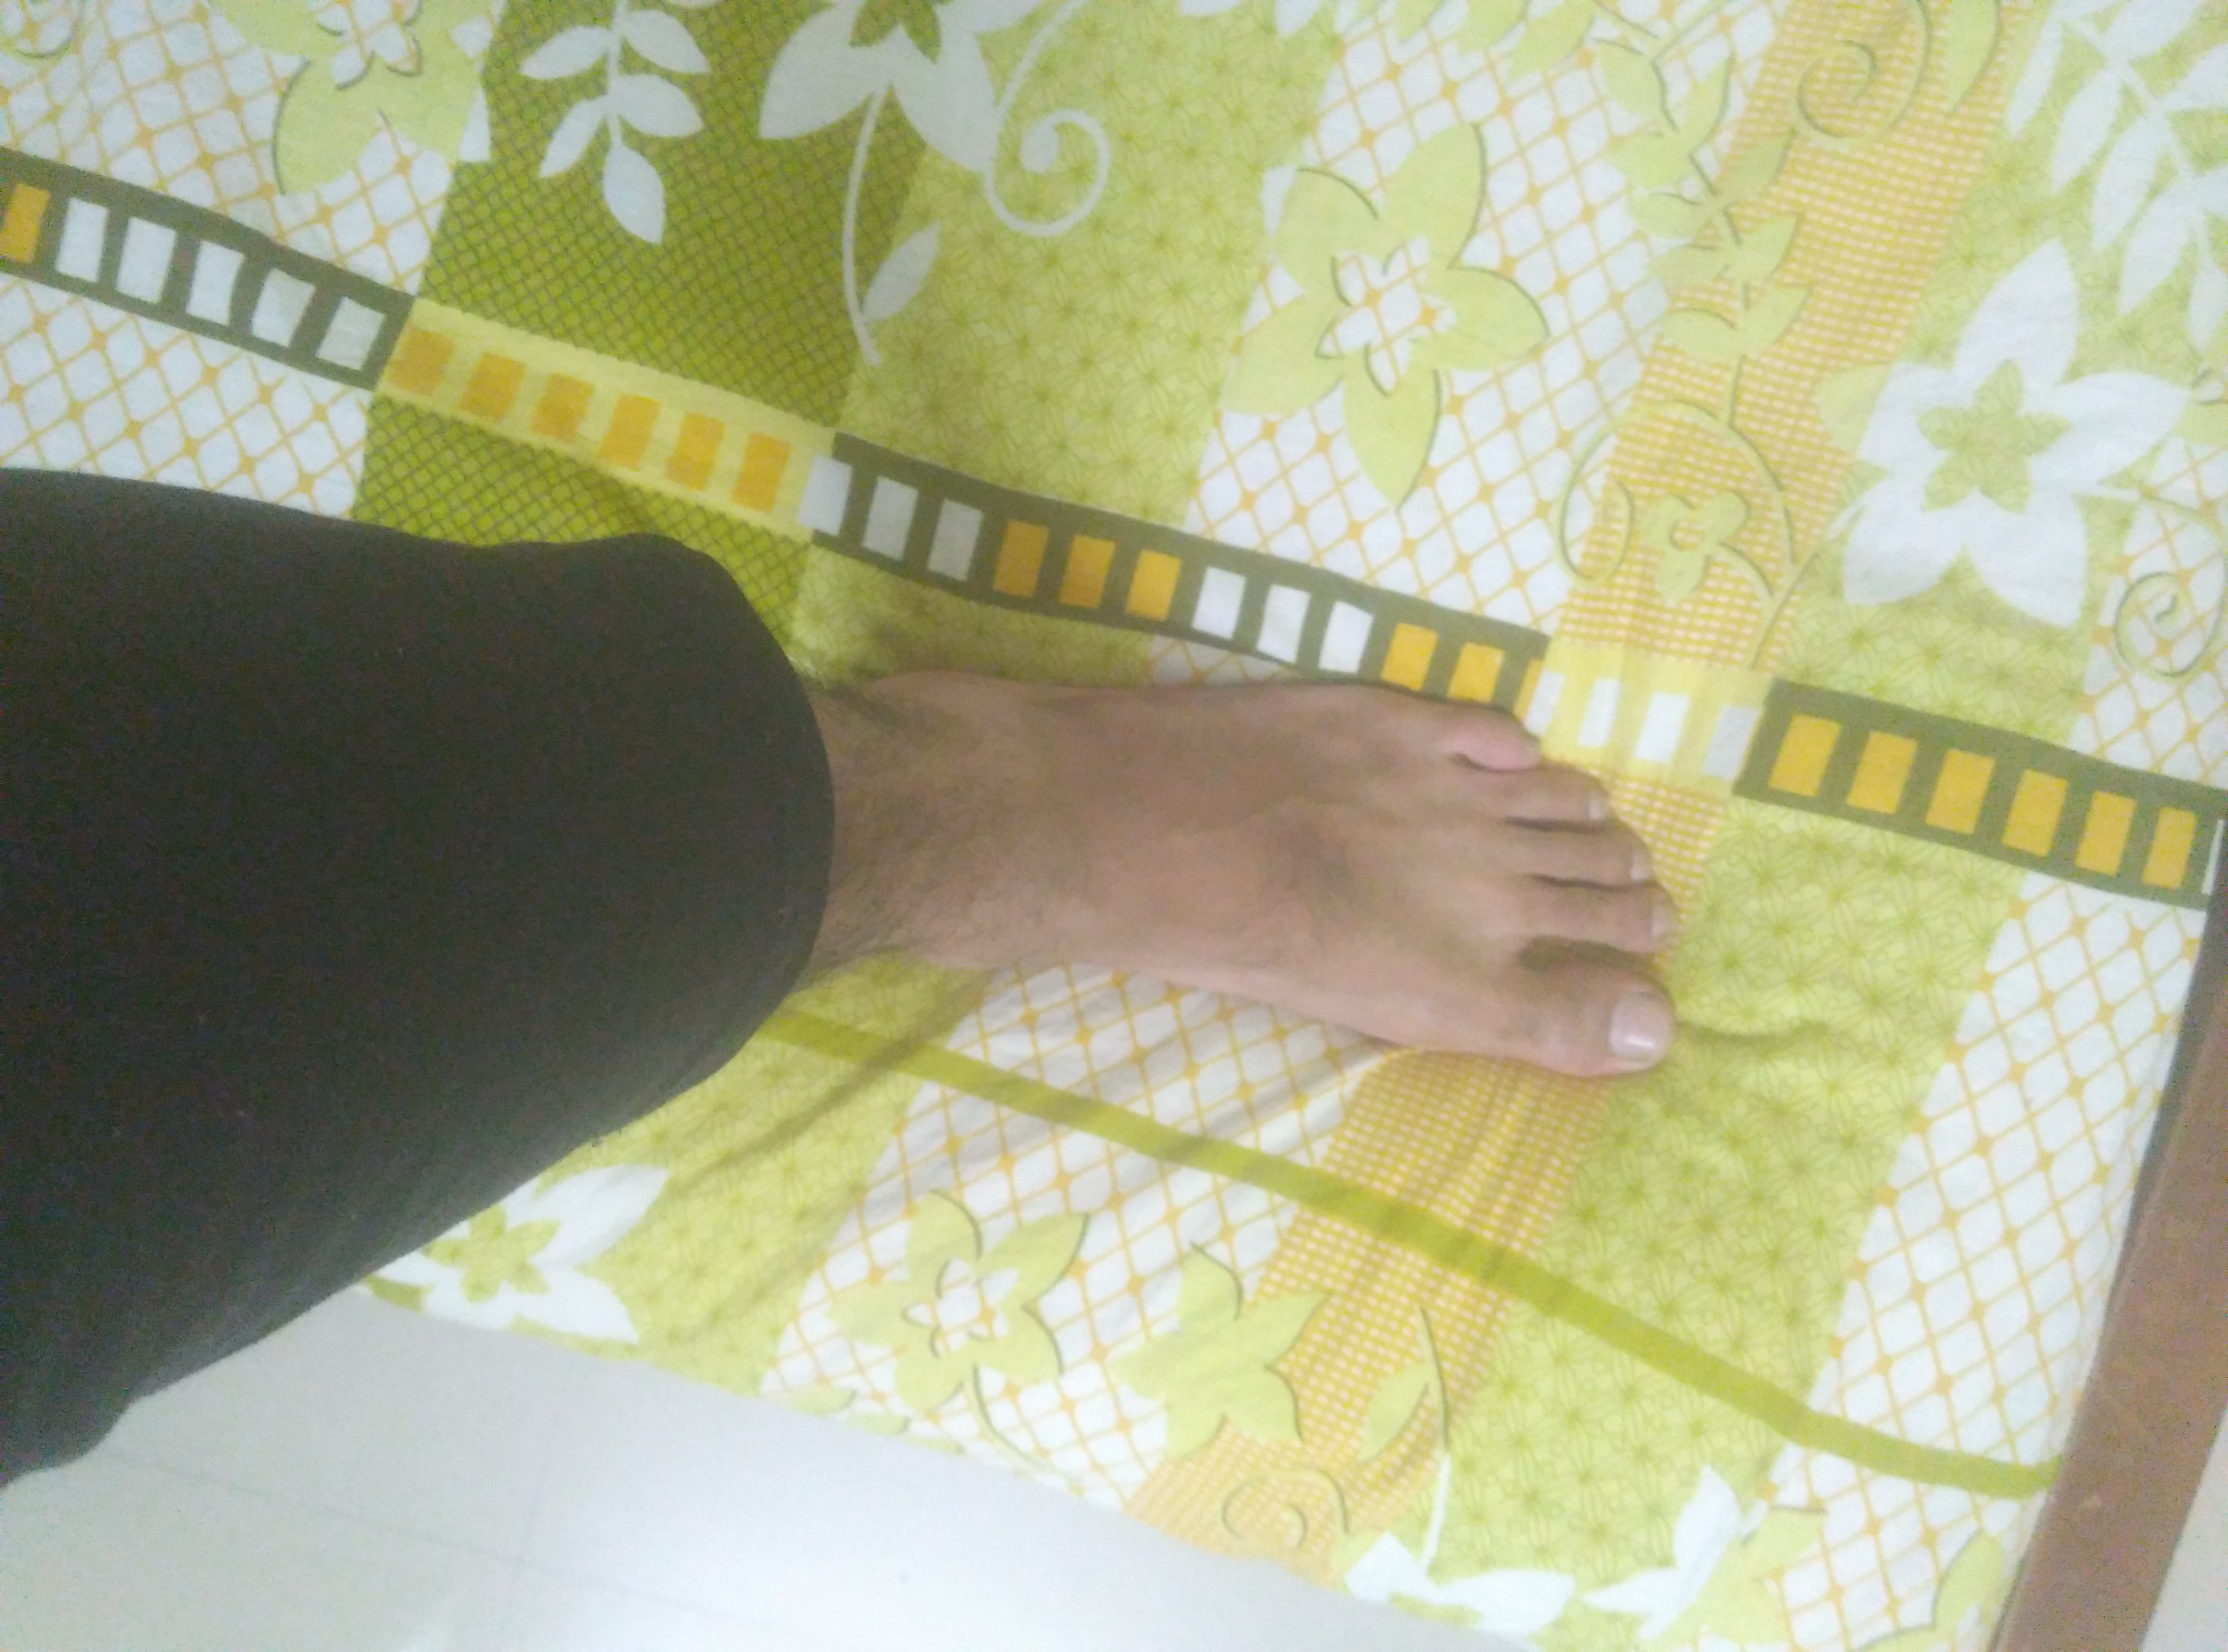feet: (772, 522, 1702, 1102)
